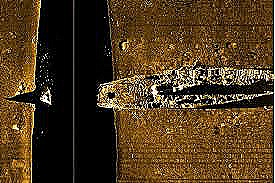ship: (39, 58, 274, 112)
